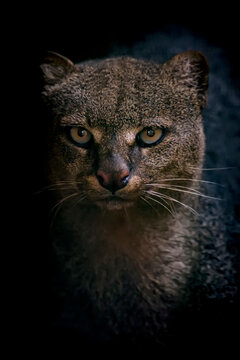Jaguarundi: (30, 41, 219, 295)
